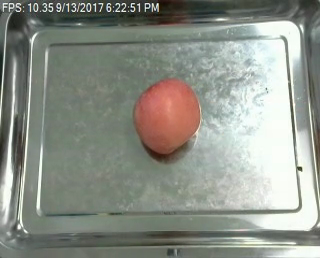Apple: (131, 74, 203, 160)
